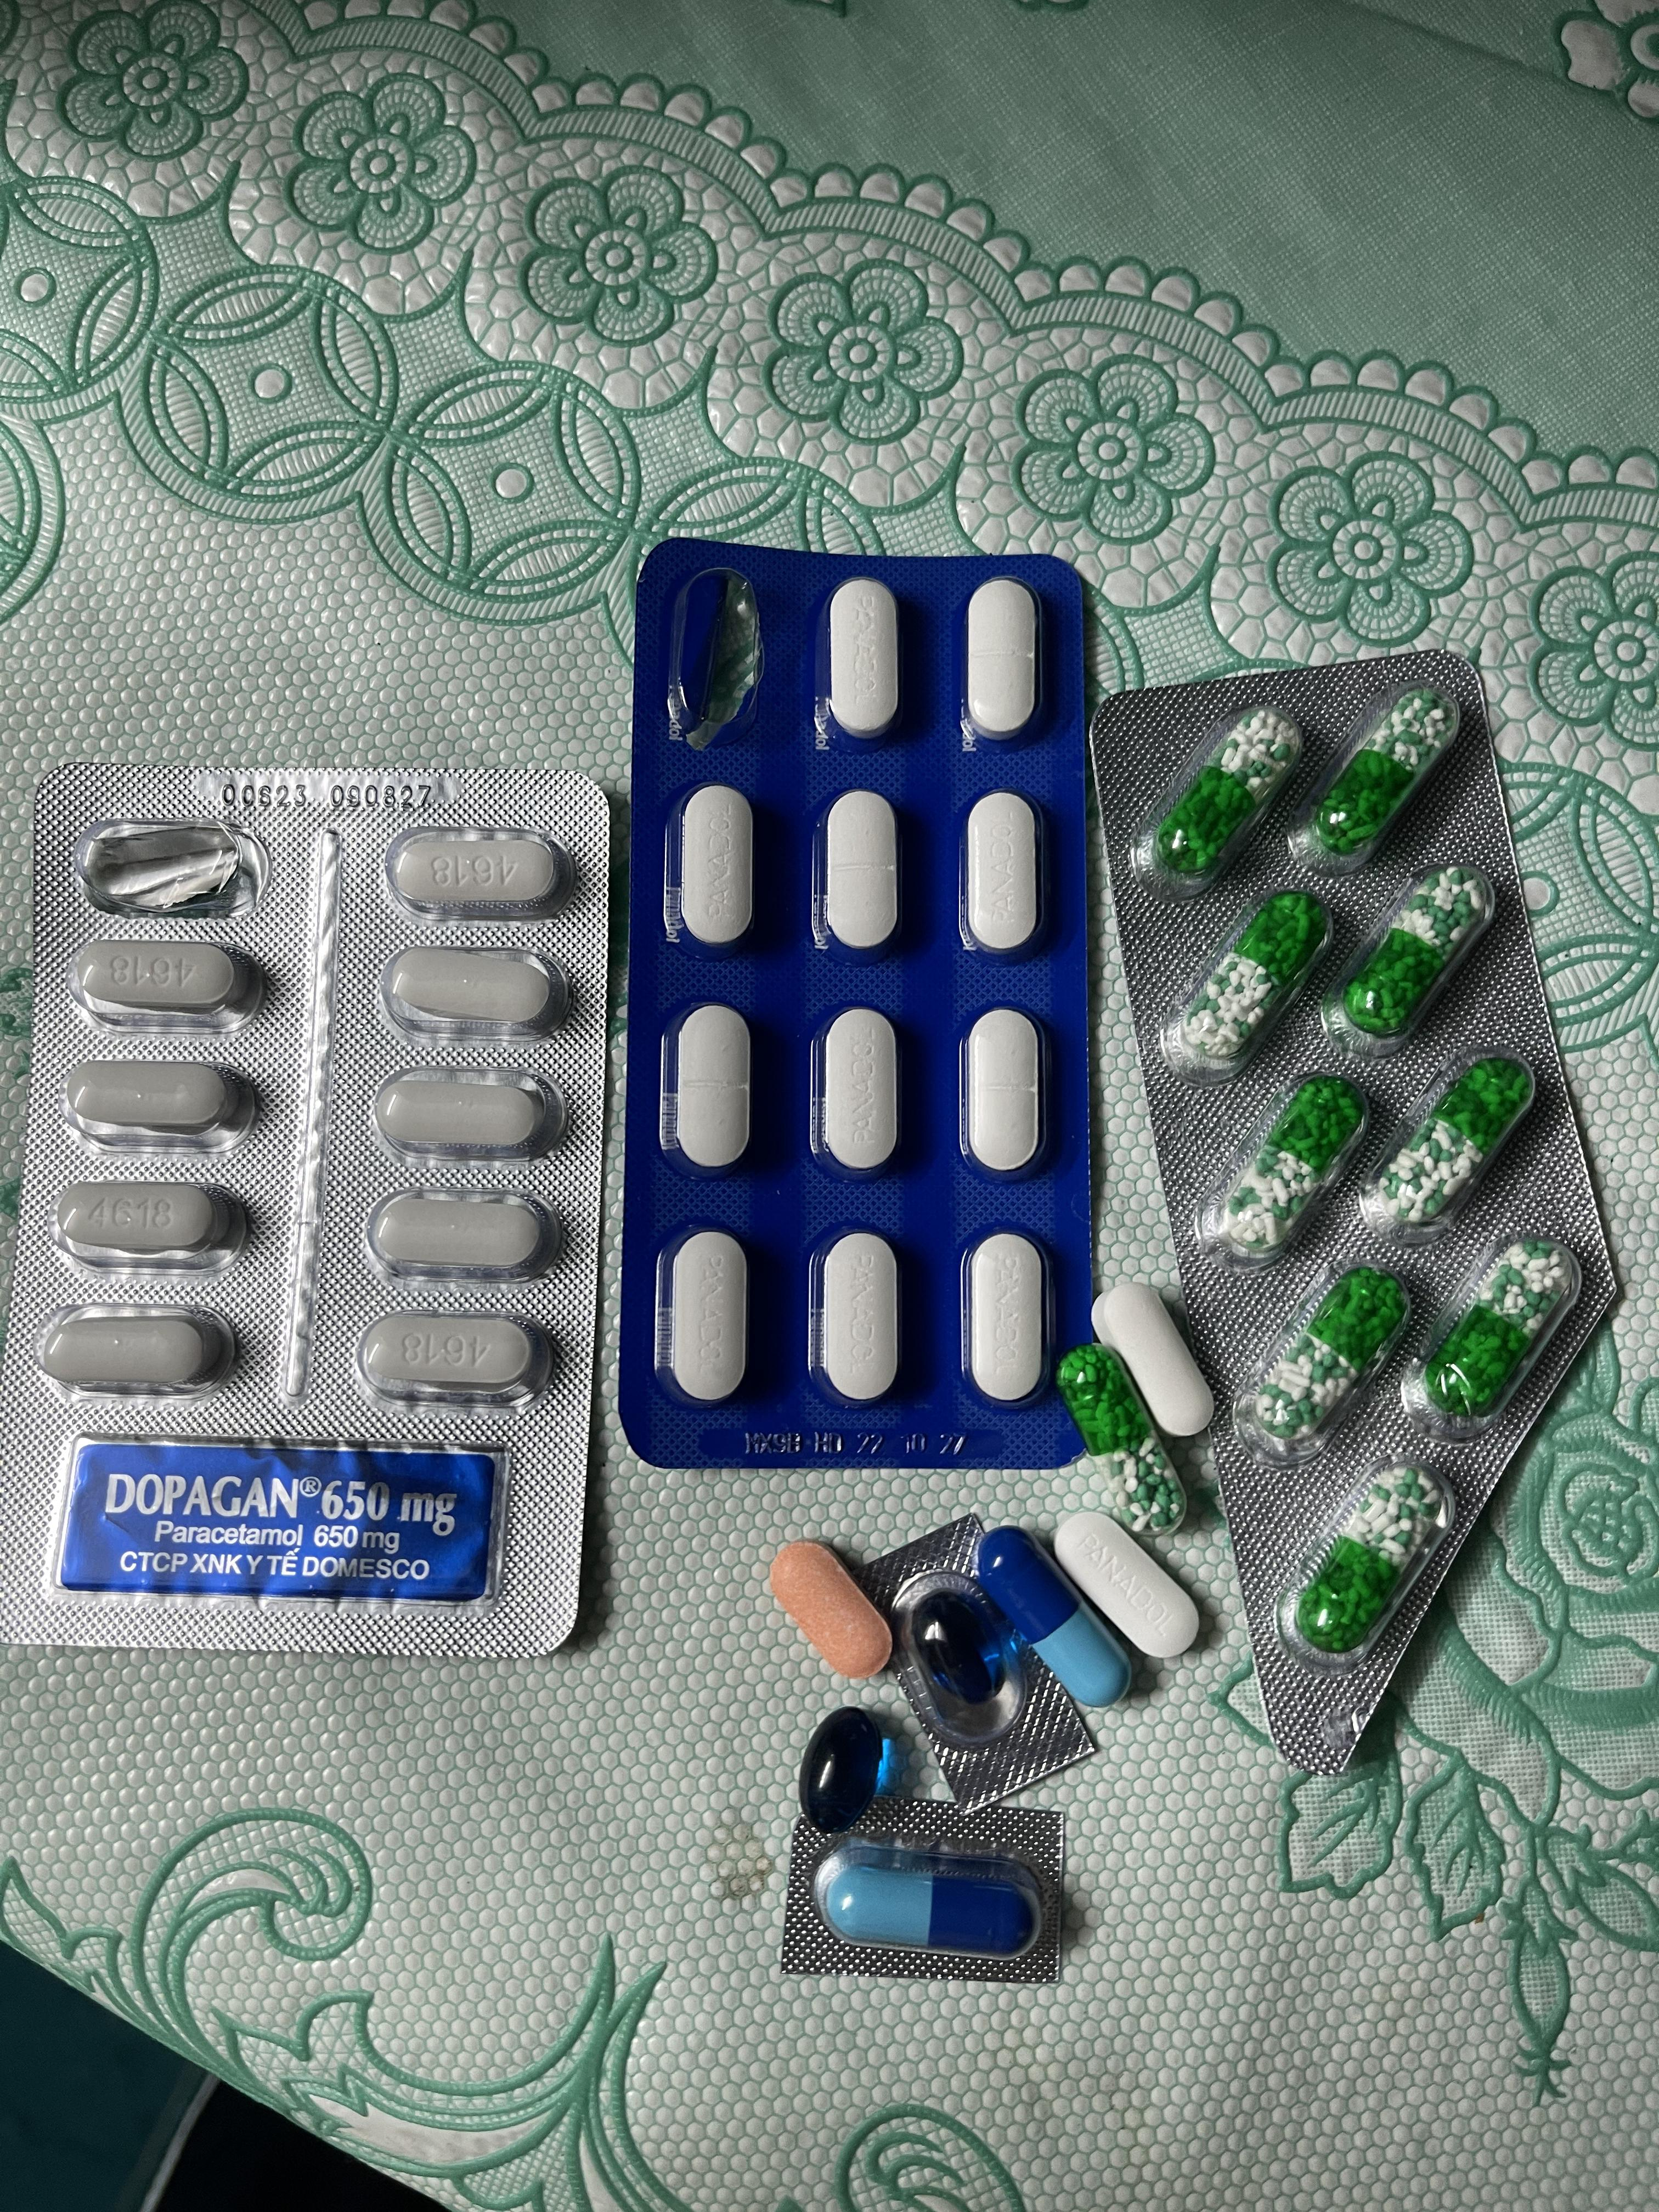Lincomyxin_500mg: (796, 1709, 887, 1839), (913, 1592, 1004, 1709)
Loratadine_10mg: (769, 1543, 892, 1679)
Paracetamol_350mg: (1060, 1514, 1194, 1653), (960, 1230, 1054, 1406), (960, 1005, 1053, 1183), (810, 1005, 904, 1179), (816, 1230, 899, 1406), (964, 791, 1049, 960), (664, 1230, 746, 1406), (673, 1005, 753, 1177), (823, 791, 901, 956), (964, 580, 1042, 744), (678, 787, 756, 948), (826, 578, 901, 744)
Paracetamol_500mg: (354, 1310, 552, 1414), (31, 1303, 235, 1399), (47, 1181, 247, 1277), (366, 1188, 561, 1284), (376, 946, 568, 1043), (61, 1057, 256, 1151), (1094, 1282, 1211, 1435), (371, 1069, 561, 1163), (70, 939, 263, 1031), (383, 826, 572, 918)
Paracetamol_650mg: (1370, 1057, 1534, 1235), (1291, 1463, 1443, 1648), (1300, 690, 1459, 866), (1182, 892, 1335, 1073), (1422, 1244, 1574, 1423), (1255, 1271, 1406, 1447), (1340, 867, 1495, 1038), (1147, 707, 1298, 880), (1223, 1078, 1366, 1254), (1060, 1343, 1183, 1519)
pill: (814, 1839, 1051, 1958), (979, 1526, 1131, 1703)
